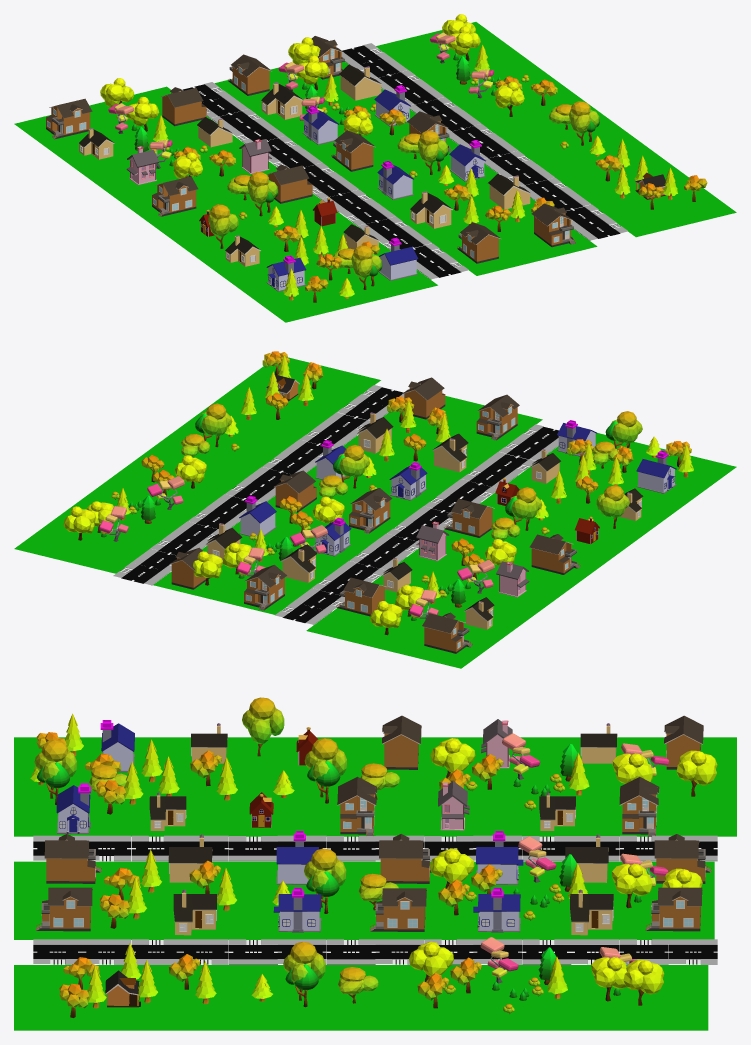
Rendered from level2.glb.
3 views of the same model, one above another, from view 1: azimuth 30°, elevation 25°; view 2: azimuth 150°, elevation 25°; view 3: azimuth 270°, elevation 25° (orthographic). The views are drawn at different scales.
Visible parts, largest first — view 1: Plane.183, Plane.199, Plane.185, Residential 9.025, Residential 9.026, Residential 9.024, Residential 9.020, Residential 9.018, Residential 9.019, Residential 9.002, Residential 9.023, Residential 6.011 (+55 smaller); view 2: Plane.183, Plane.199, Plane.185, Residential 9.025, Residential 9.026, Residential 9.002, Residential 9.018, Residential 9.019, Residential 9.023, Residential 9.024, Residential 6.012, Residential 9.020 (+59 smaller); view 3: Plane.183, Plane.199, Plane.185, Residential 9.002, Residential 9.020, Residential 9.021, Residential 9.018, Residential 9.022, Residential 9.023, Residential 9.024, Residential 9.025, Residential 6.010 (+76 smaller).
Boxes of the visible parts, x1,y1,x2,y2 form: Plane.183: [14, 86, 437, 322]; Plane.199: [376, 22, 736, 237]; Plane.185: [214, 61, 597, 275]; Residential 9.025: [152, 176, 198, 216]; Residential 9.026: [46, 98, 92, 139]; Residential 9.024: [160, 87, 206, 126]; Residential 9.020: [531, 203, 575, 247]; Residential 9.018: [331, 130, 375, 171]; Residential 9.019: [228, 54, 271, 95]; Residential 9.002: [457, 222, 500, 263]; Residential 9.023: [266, 165, 312, 203]; Residential 6.011: [379, 237, 418, 280]; Plane.183: [306, 433, 736, 668]; Plane.199: [14, 357, 380, 573]; Plane.185: [153, 396, 542, 614]; Residential 9.025: [529, 534, 580, 574]; Residential 9.026: [422, 612, 472, 653]; Residential 9.002: [476, 394, 519, 440]; Residential 9.018: [349, 488, 392, 533]; Residential 9.019: [244, 565, 287, 610]; Residential 9.023: [444, 498, 494, 537]; Residential 9.024: [336, 577, 386, 616]; Residential 6.012: [636, 450, 676, 493]; Residential 9.020: [402, 377, 445, 419]; Plane.183: [14, 737, 736, 836]; Plane.199: [14, 965, 708, 1030]; Plane.185: [14, 861, 714, 939]; Residential 9.002: [44, 834, 101, 883]; Residential 9.020: [36, 887, 92, 931]; Residential 9.021: [645, 887, 702, 931]; Residential 9.018: [379, 834, 431, 883]; Residential 9.022: [370, 888, 426, 931]; Residential 9.023: [337, 776, 376, 835]; Residential 9.024: [619, 777, 659, 836]; Residential 9.025: [382, 715, 421, 769]; Residential 6.010: [473, 887, 520, 932].
Size of the model in its own units: 142 by 12.87 by 148.
2 materials, 2 textured.
